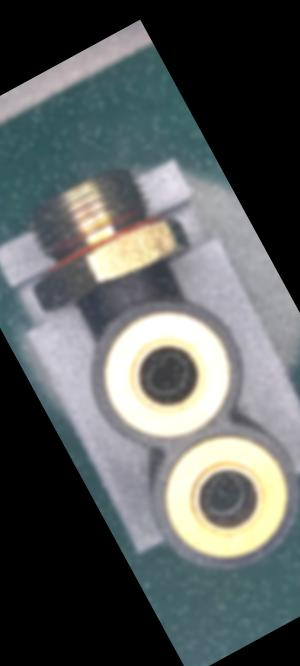craze: (119, 273, 152, 301)
off-centered: (131, 342, 204, 414), (188, 463, 256, 530)
